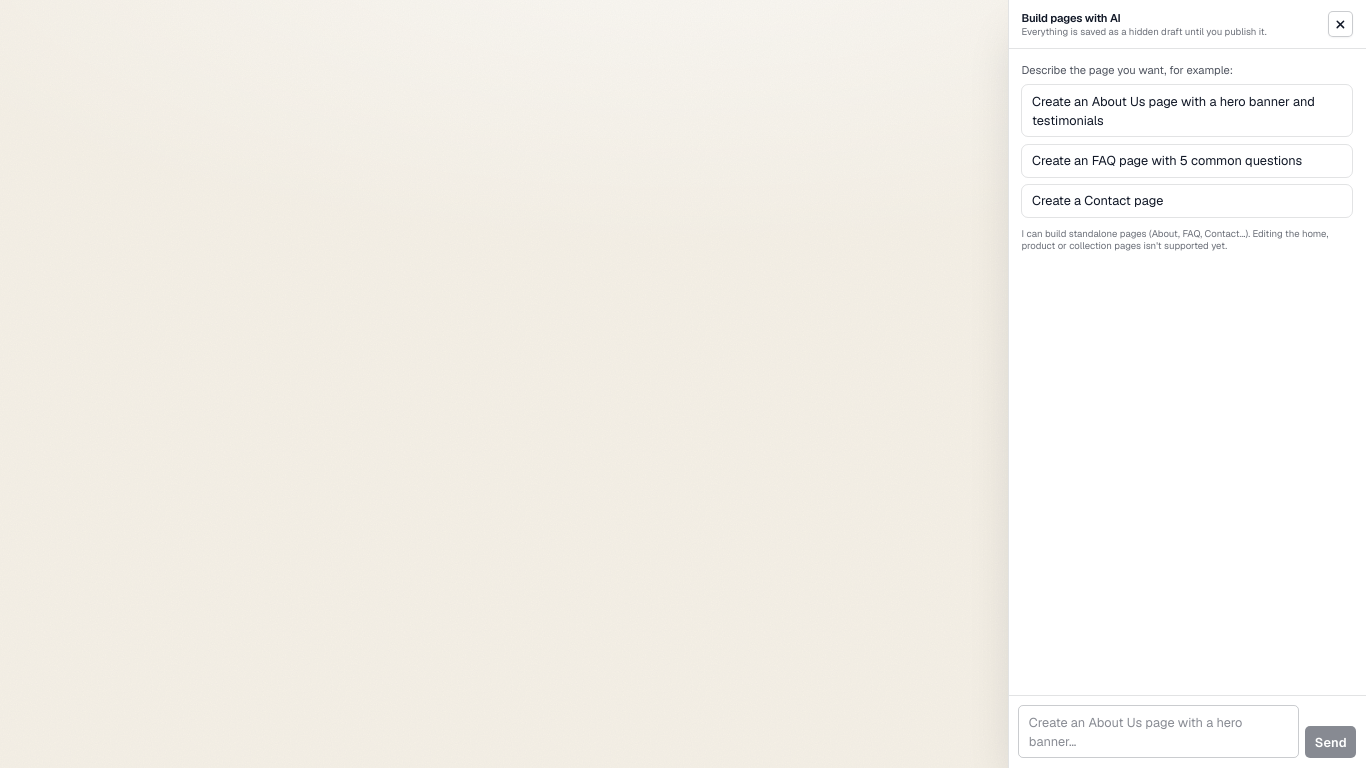
Scenario: AiPageBuilderPanel › shows errors
Type "hello" into the text box named "Your request" at (1158, 732), box 1018,705 -> 1299,758
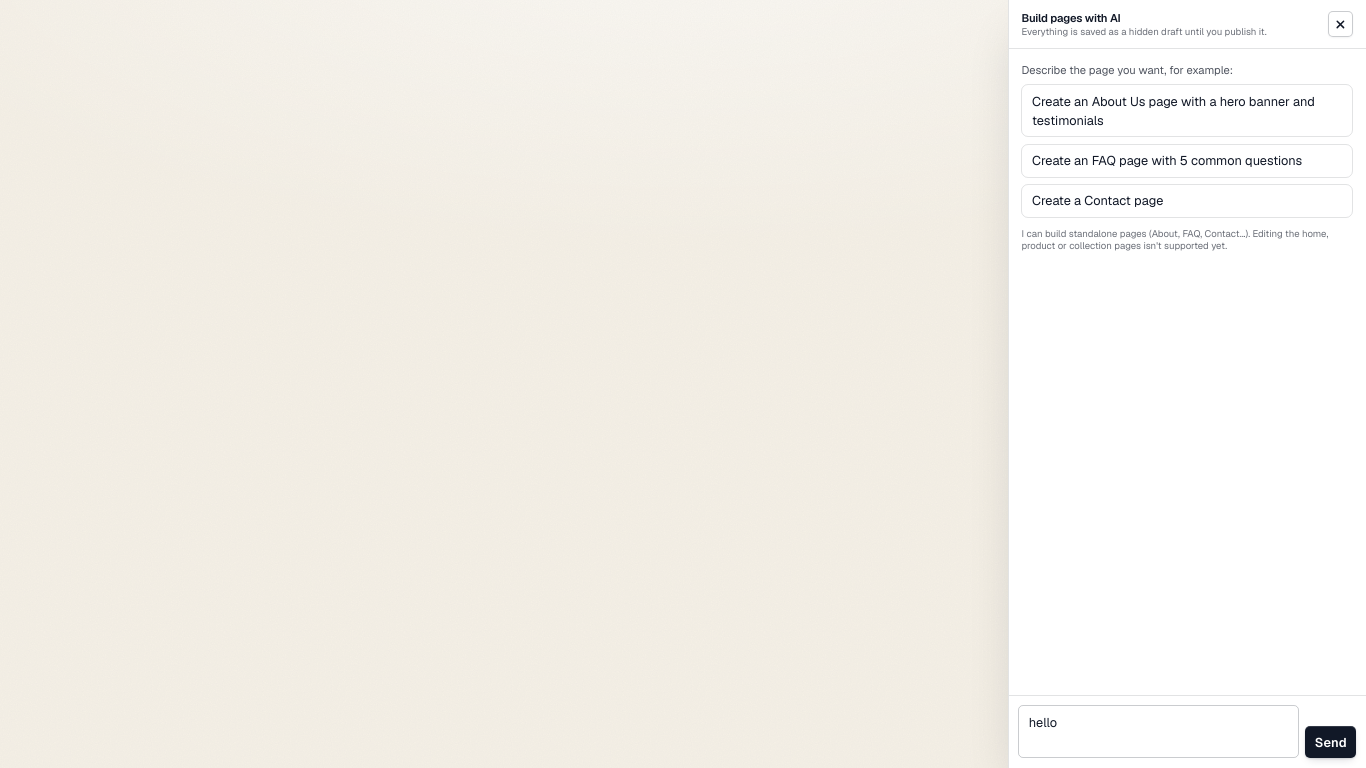
Click the button "Send" at (1331, 742), box 1305,726 -> 1356,758
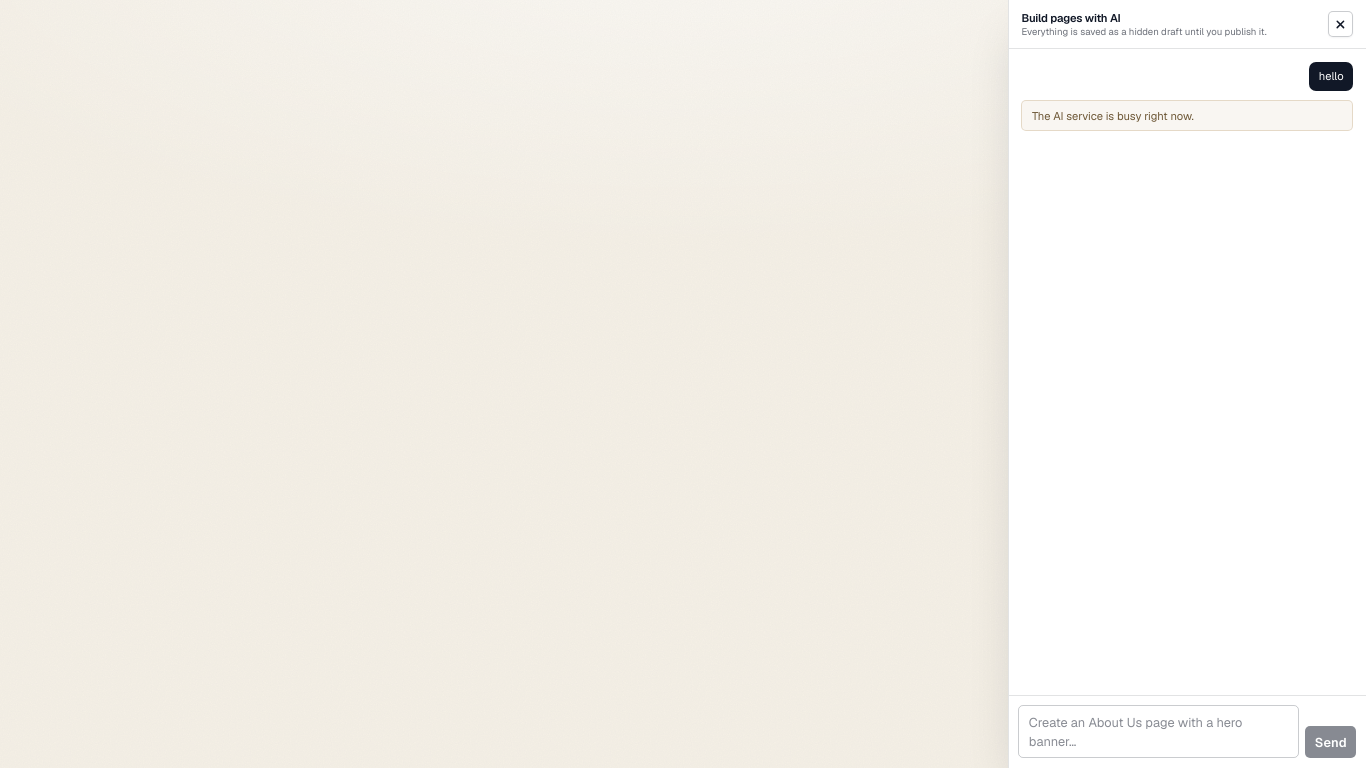
Expected: the message shows "busy", 1032,108 -> 1194,122
